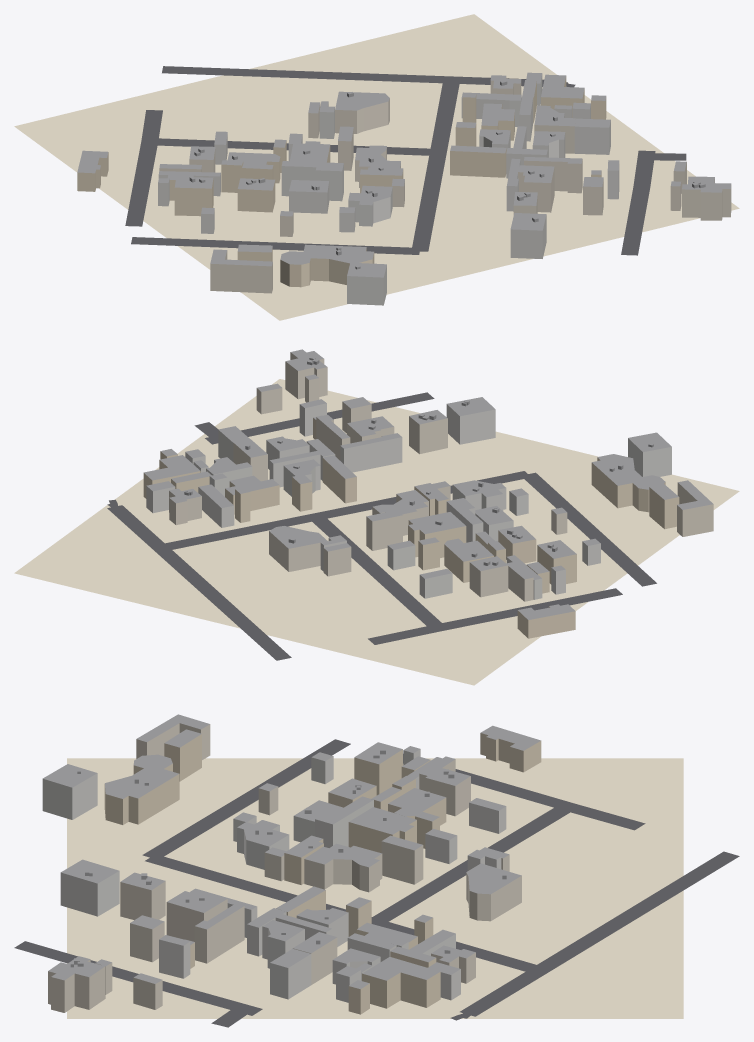
File: tile_-4_-7_far.glb
3 views of the same model, one above another, from view 1: azimuth 30°, elevation 25°; view 2: azimuth 150°, elevation 25°; view 3: azimuth 270°, elevation 25° (orthographic). The views are drawn at different scales.
Parts seen in each view (by area): view 1: nature_ground, buildings_roof, roads_asphalt, buildings_concrete_light, buildings_concrete_warm, buildings_sandstone; view 2: nature_ground, buildings_roof, buildings_concrete_warm, buildings_concrete_light, roads_asphalt, buildings_sandstone; view 3: nature_ground, buildings_roof, buildings_concrete_warm, buildings_concrete_light, roads_asphalt, buildings_sandstone.
Part boxes in pixels (x1=…): nature_ground: x1=14, y1=14, x2=739, y2=320; buildings_roof: x1=77, y1=72, x2=731, y2=277; roads_asphalt: x1=125, y1=66, x2=686, y2=255; buildings_concrete_light: x1=158, y1=74, x2=619, y2=305; buildings_concrete_warm: x1=159, y1=77, x2=731, y2=293; buildings_sandstone: x1=77, y1=76, x2=606, y2=287; nature_ground: x1=14, y1=379, x2=739, y2=685; buildings_roof: x1=144, y1=349, x2=713, y2=619; buildings_concrete_warm: x1=169, y1=352, x2=713, y2=601; buildings_concrete_light: x1=146, y1=403, x2=671, y2=599; roads_asphalt: x1=107, y1=392, x2=656, y2=660; buildings_sandstone: x1=143, y1=418, x2=679, y2=638; nature_ground: x1=67, y1=758, x2=683, y2=1018; buildings_roof: x1=43, y1=714, x2=540, y2=989; buildings_concrete_warm: x1=48, y1=723, x2=521, y2=1012; buildings_concrete_light: x1=42, y1=749, x2=506, y2=1002; roads_asphalt: x1=14, y1=739, x2=739, y2=1027; buildings_sandstone: x1=104, y1=733, x2=541, y2=1014.
Bounding box in the file's own units: 277 × 17.3 × 294.
